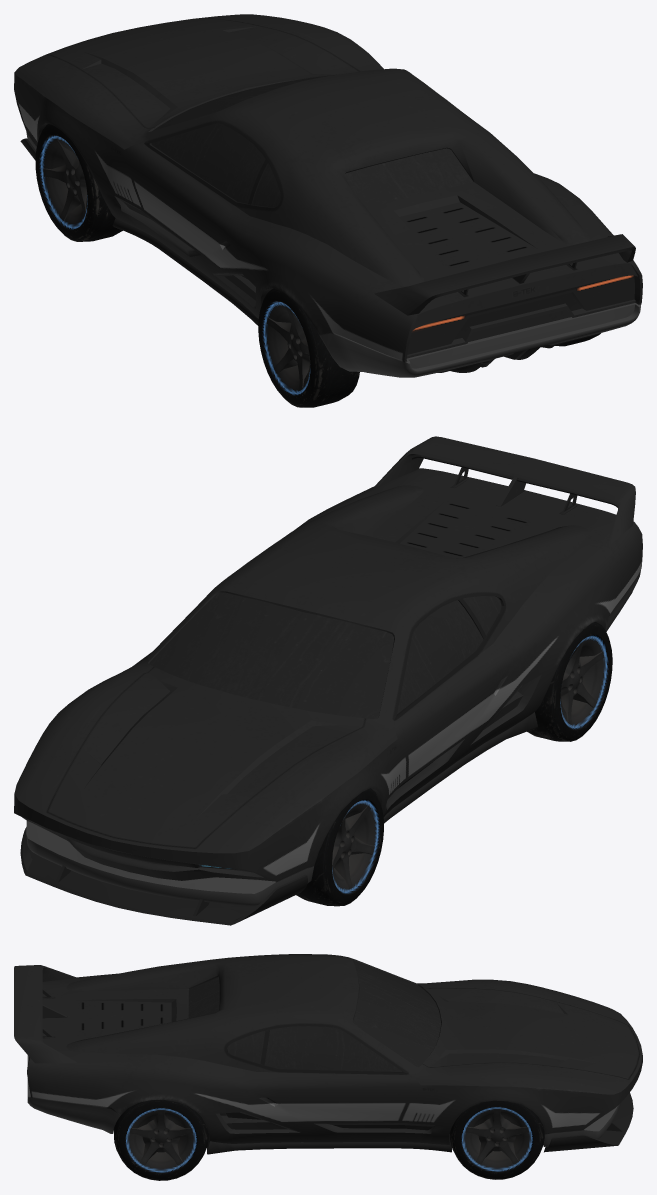
Rendered from cyberpunk_car.glb.
3 views of the same model, one above another, from view 1: azimuth 30°, elevation 25°; view 2: azimuth 150°, elevation 25°; view 3: azimuth 270°, elevation 25° (orthographic). The views are drawn at different scales.
Visible parts, largest first — view 1: cb_car_export_cb_car_0; view 2: cb_car_export_cb_car_0; view 3: cb_car_export_cb_car_0.
Boxes of the visible parts, x1,y1,x2,y2 form: cb_car_export_cb_car_0: (14,14,642,407); cb_car_export_cb_car_0: (14,436,642,925); cb_car_export_cb_car_0: (14,954,642,1180).
Size of the model in its own units: 223 by 141 by 541.
1 material, 1 textured.
